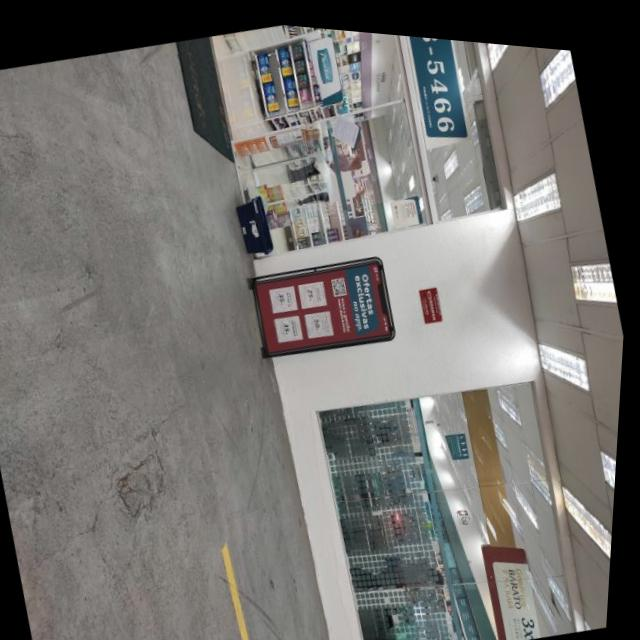qrcode: (334, 272, 349, 290)
